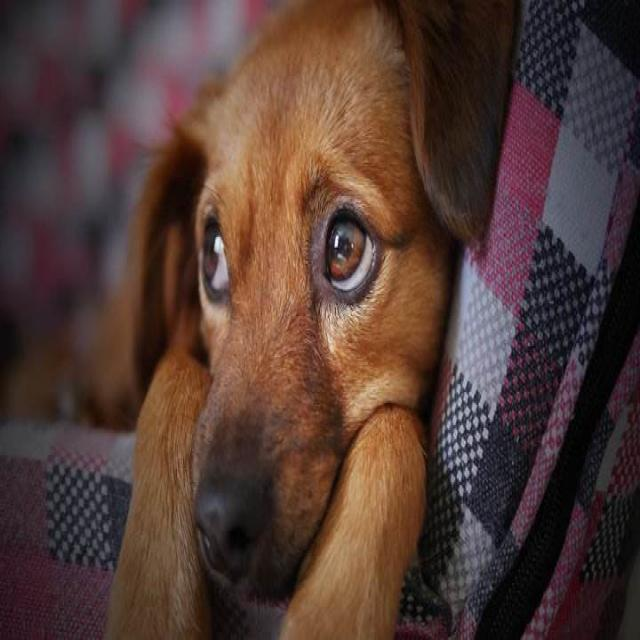eye: (318, 201, 379, 301), (198, 211, 235, 311)
